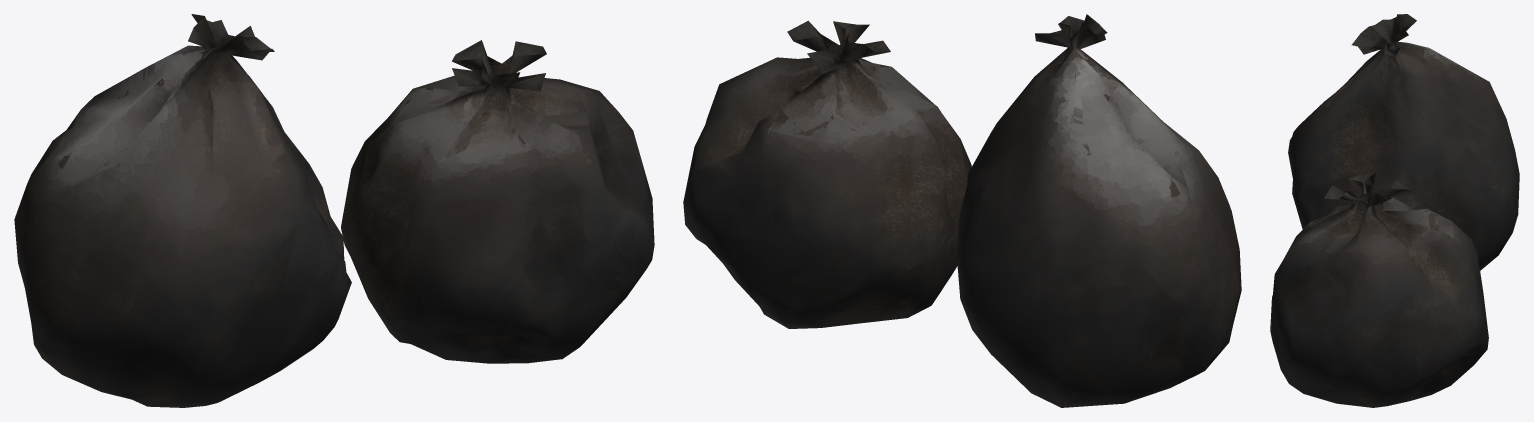
File: trashbag.glb
3 renders of one model, left to right at view 1: azimuth 30°, elevation 25°; view 2: azimuth 150°, elevation 25°; view 3: azimuth 270°, elevation 25°, orthographic. The views are drawn at different scales.
Parts seen in each view (by area): view 1: trash bag, trash bag.001; view 2: trash bag, trash bag.001; view 3: trash bag.001, trash bag.
Boxes of the visible parts, bbox=[...] form: trash bag: bbox=[14, 14, 351, 407]; trash bag.001: bbox=[341, 40, 654, 363]; trash bag: bbox=[956, 14, 1241, 407]; trash bag.001: bbox=[683, 20, 971, 328]; trash bag.001: bbox=[1270, 172, 1488, 407]; trash bag: bbox=[1288, 14, 1519, 270].
Size of the model in its own units: 2.17 by 1.37 by 1.11.
1 material, 1 textured.
